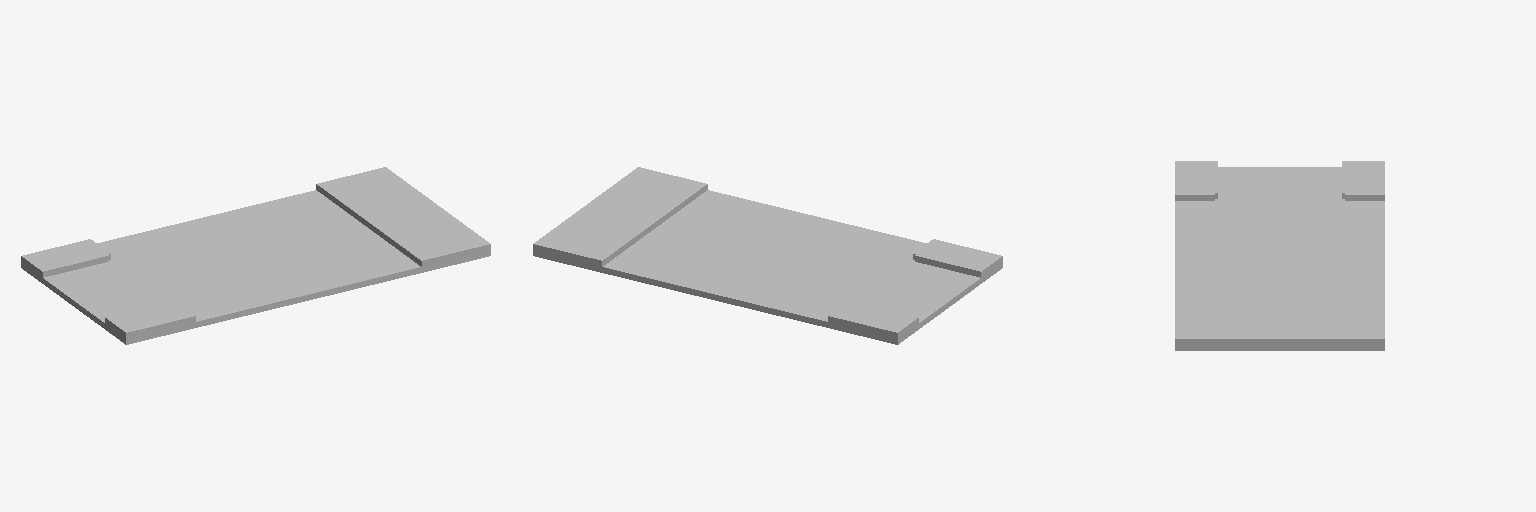
The model's file is roads-1.obj.
3 views of the same model, side by side, from view 1: azimuth 30°, elevation 25°; view 2: azimuth 150°, elevation 25°; view 3: azimuth 270°, elevation 25° (orthographic).
Visible parts, largest first — view 1: object 1; view 2: object 1; view 3: object 1.
Part boxes in pixels (left/top/right/bottom): object 1: left=21, top=167, right=490, bottom=344; object 1: left=533, top=167, right=1002, bottom=344; object 1: left=1175, top=161, right=1384, bottom=350.
Bounding box in the file's own units: 12.6 × 0.4 × 6.3.